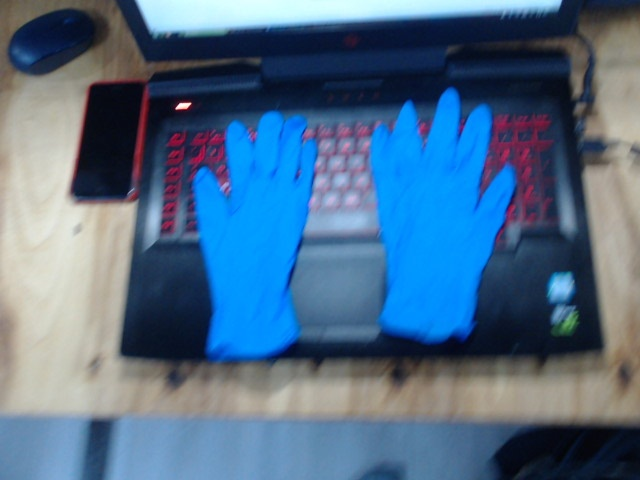medical_glove: (369, 87, 516, 341), (194, 109, 315, 359)
